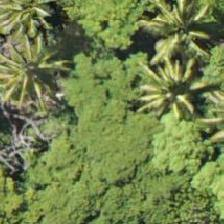coconut_tree: (140, 47, 223, 137), (131, 0, 221, 81), (0, 23, 70, 113), (0, 0, 74, 50)
